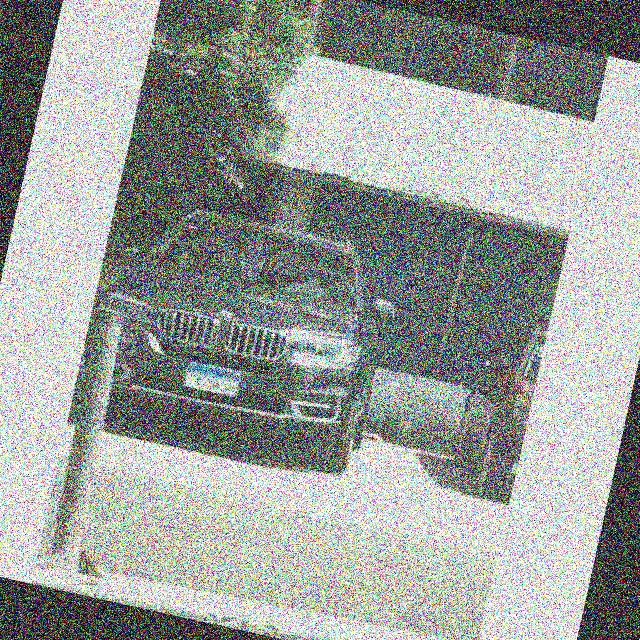License Plate: (180, 357, 245, 400)
